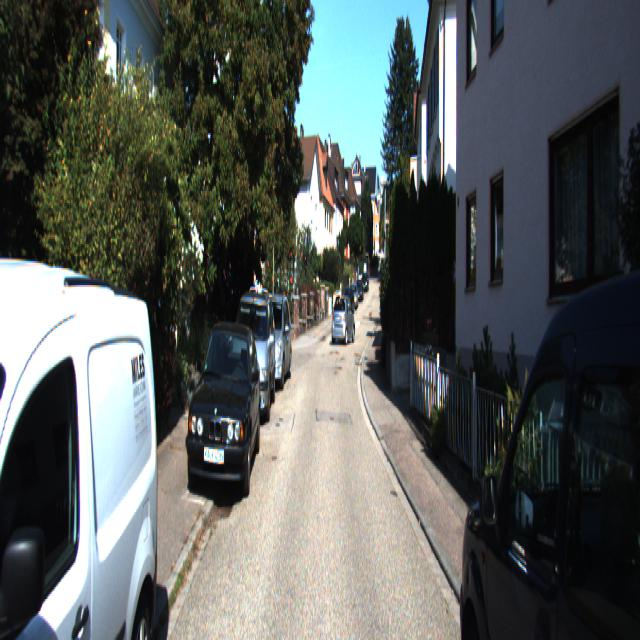Car: (0, 172, 169, 638), (453, 220, 639, 638), (183, 313, 263, 506), (228, 284, 277, 431), (251, 291, 293, 392), (331, 292, 355, 346)
